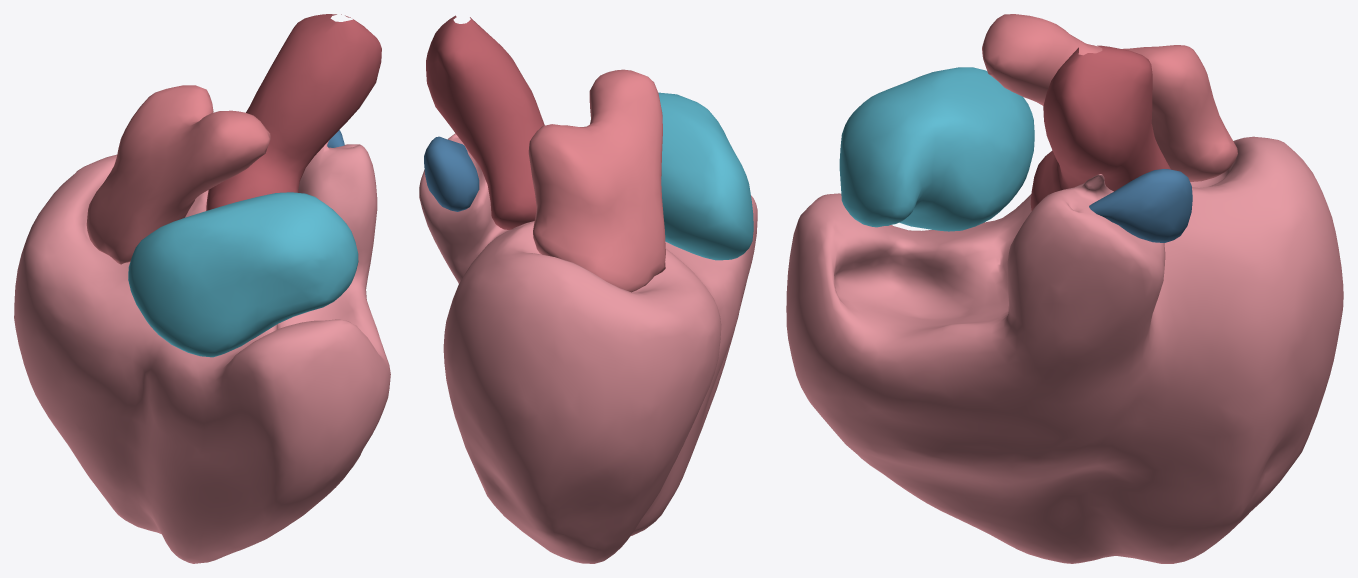
Rendered from frame_50.glb.
3 views of the same model, side by side, from view 1: azimuth 30°, elevation 25°; view 2: azimuth 150°, elevation 25°; view 3: azimuth 270°, elevation 25° (orthographic). The views are drawn at different scales.
Parts seen in each view (by area): view 1: Renderer Node; view 2: Renderer Node; view 3: Renderer Node.
Part boxes in pixels (x1,y1,x2,y2): Renderer Node: (14,14,390,563); Renderer Node: (419,15,757,563); Renderer Node: (786,14,1343,563).
Size of the model in its own units: 107 by 164 by 137.
